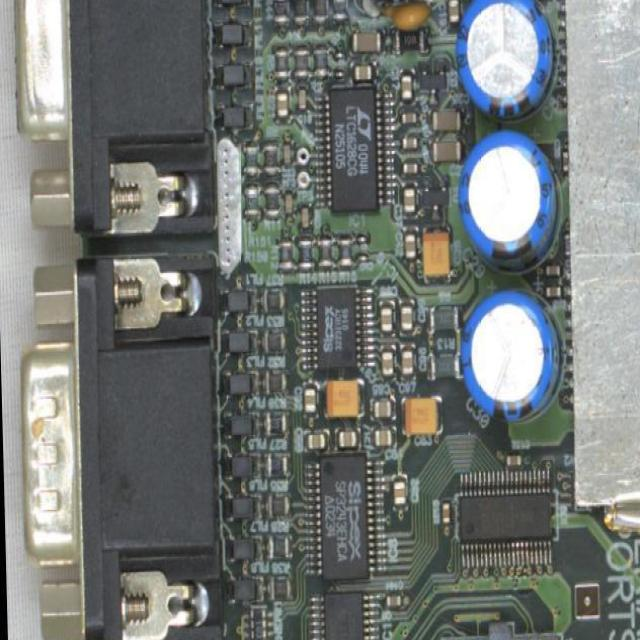EM: (212, 17, 251, 47), (214, 61, 252, 90), (214, 101, 252, 130), (224, 532, 262, 560), (226, 574, 264, 602), (221, 367, 257, 395), (222, 409, 258, 436), (219, 286, 256, 312), (220, 328, 256, 354), (224, 493, 261, 518), (212, 0, 249, 7)
IC: (312, 80, 393, 215), (303, 450, 385, 583), (453, 467, 558, 568), (298, 283, 372, 371), (307, 588, 378, 640)
capacitor: (346, 28, 386, 55), (426, 105, 464, 132), (427, 136, 465, 162), (390, 472, 409, 512), (333, 424, 362, 450), (301, 379, 319, 418), (369, 395, 396, 421), (348, 58, 376, 83), (397, 64, 414, 104), (397, 296, 414, 336), (302, 428, 329, 452), (401, 180, 418, 218), (377, 298, 394, 336), (378, 342, 395, 380), (402, 224, 418, 264), (274, 86, 290, 125), (399, 341, 415, 378), (445, 0, 461, 30), (502, 450, 523, 470), (398, 133, 418, 152), (295, 85, 309, 112), (400, 158, 418, 179), (383, 590, 403, 608), (282, 190, 294, 215), (440, 496, 450, 526), (400, 109, 417, 126), (282, 141, 294, 165), (299, 202, 309, 229), (544, 284, 560, 298), (560, 148, 567, 173), (545, 265, 559, 274)
connector: (14, 246, 226, 640), (6, 0, 217, 240), (443, 607, 576, 640)
electrolytic capacitor: (454, 124, 562, 276), (457, 284, 566, 424), (453, 0, 560, 123), (420, 222, 450, 281), (399, 394, 443, 434), (322, 377, 365, 417)
pads: (352, 228, 368, 260), (331, 47, 345, 82)
resistor: (389, 24, 428, 54), (426, 350, 464, 380), (242, 604, 271, 640), (424, 303, 460, 331), (336, 228, 354, 268), (295, 232, 313, 272), (312, 39, 329, 80), (242, 137, 258, 179), (276, 232, 292, 274), (264, 493, 292, 517), (258, 287, 287, 310), (270, 42, 288, 79), (316, 231, 333, 270), (266, 575, 294, 598), (293, 40, 309, 80), (243, 184, 259, 223), (260, 395, 287, 418), (262, 453, 290, 475), (265, 535, 293, 557), (260, 330, 287, 352), (262, 178, 278, 214), (262, 139, 278, 173), (261, 371, 288, 391), (290, 0, 308, 26), (311, 0, 328, 25), (271, 0, 287, 26), (330, 0, 348, 22)
test point: (295, 169, 309, 188)
transistor: (416, 58, 448, 105), (420, 172, 451, 220)
